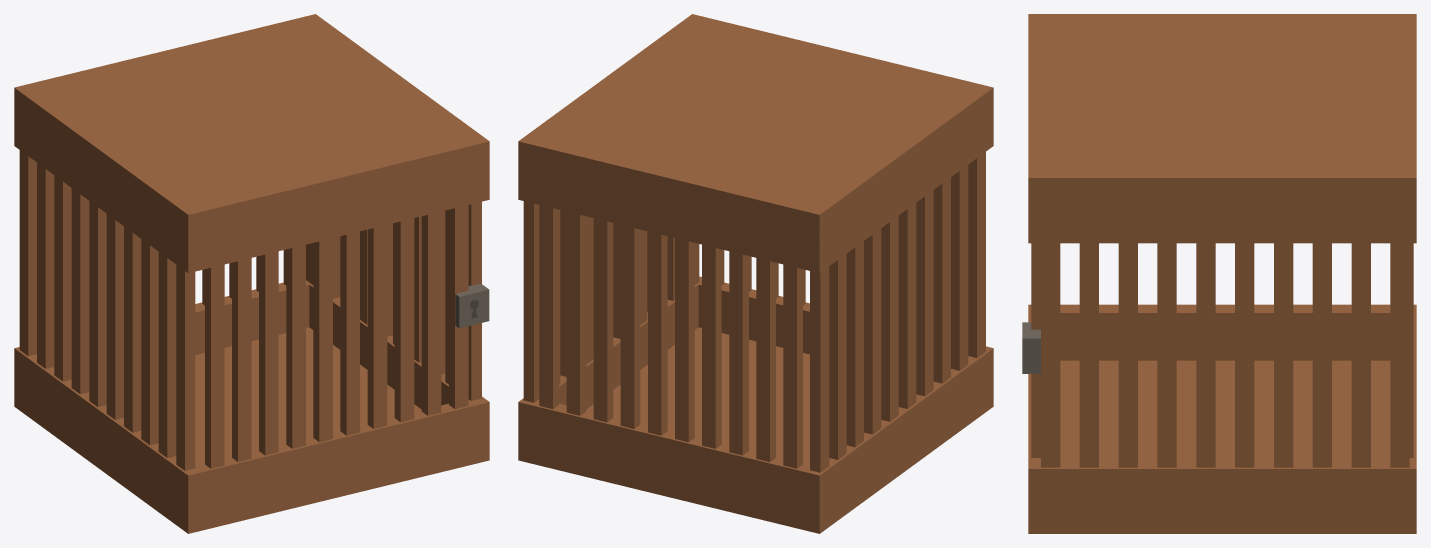
The model's file is cage.fbx.
The picture shows the model from 3 angles, left to right: view 1: azimuth 30°, elevation 25°; view 2: azimuth 150°, elevation 25°; view 3: azimuth 270°, elevation 25°; orthographic projection. The views are drawn at different scales.
Visible parts, largest first — view 1: Cube; view 2: Cube; view 3: Cube.
Part boxes in pixels (<box>): Cube: <box>14,14,489,533</box>; Cube: <box>518,14,993,533</box>; Cube: <box>1022,14,1416,533</box>.
Size of the model in its own units: 400 by 405 by 406.
Materials: 1 (1 with a texture image).
